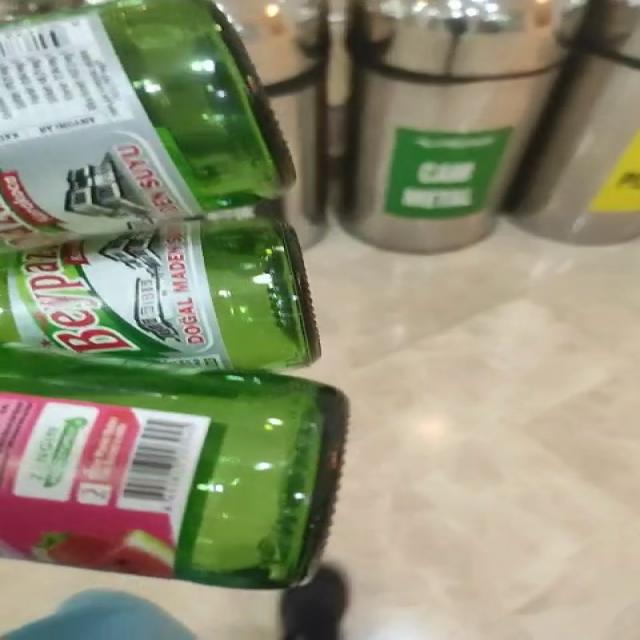glass: (0, 0, 347, 589)
